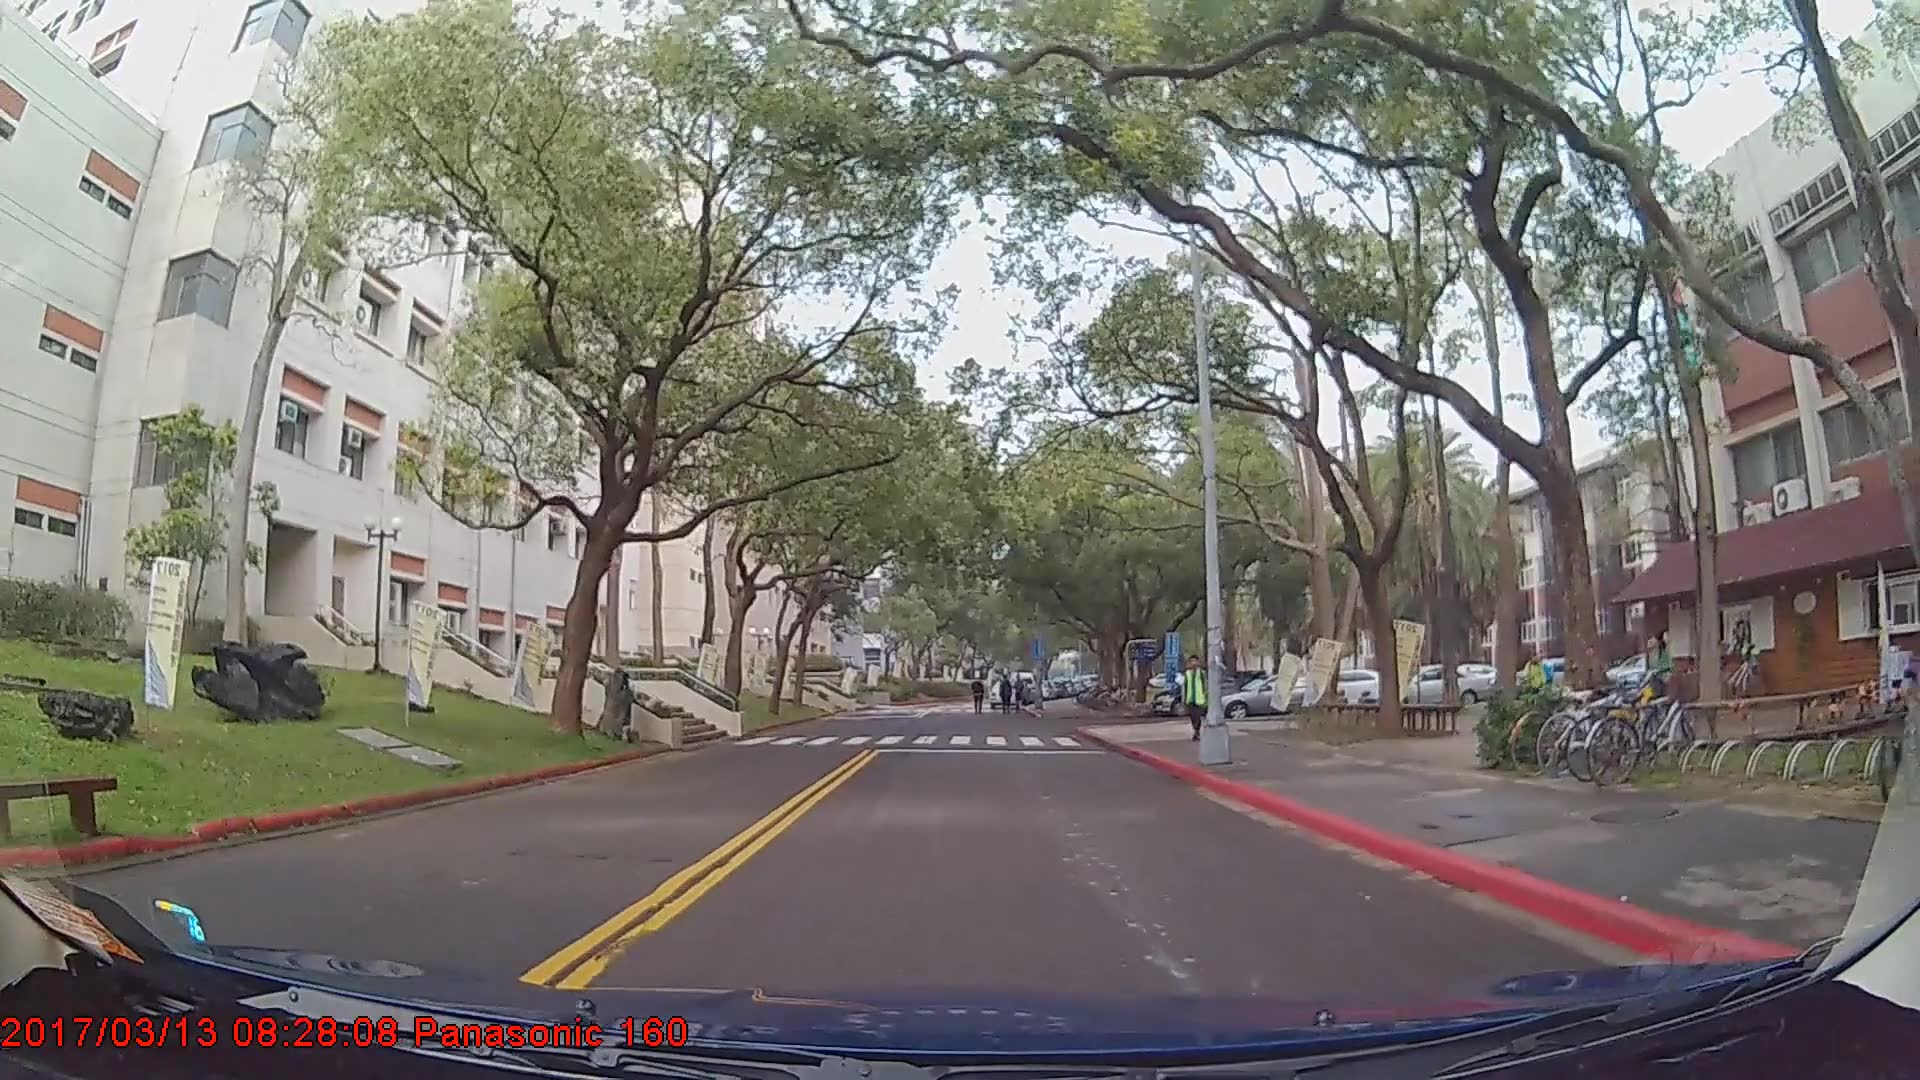pedestrian: (1178, 654, 1213, 745), (1525, 653, 1549, 719), (997, 675, 1018, 718)
vehicle: (1358, 664, 1488, 709), (1216, 674, 1344, 718)
